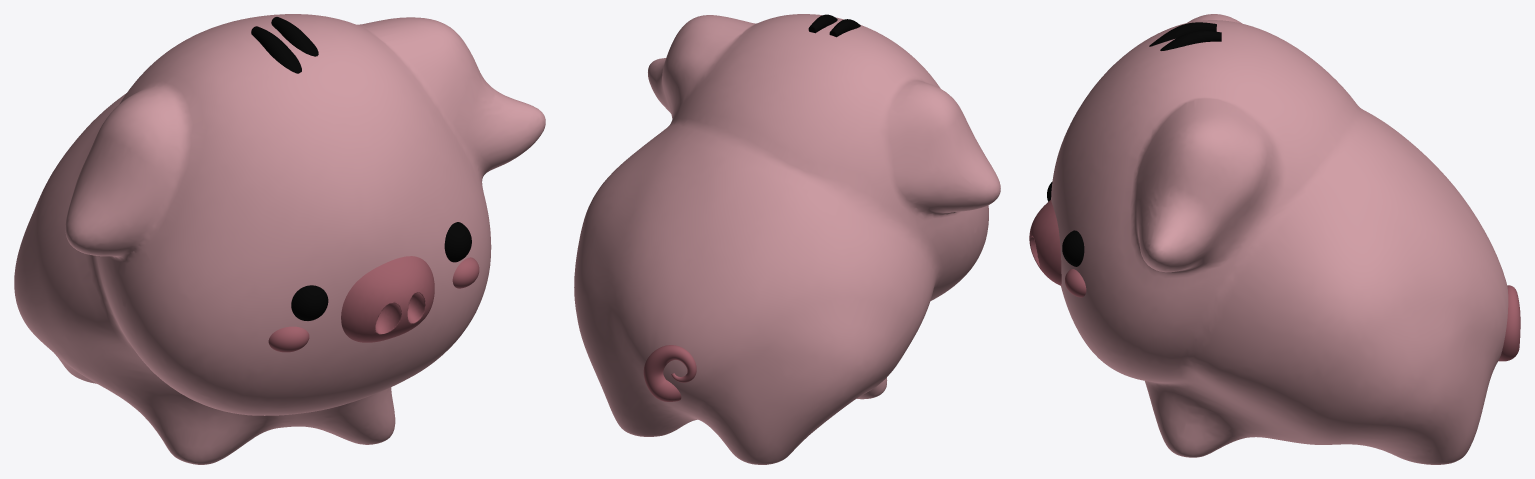
Rendered from piggyGLB.glb.
The picture shows the model from 3 angles, left to right: view 1: azimuth 30°, elevation 25°; view 2: azimuth 150°, elevation 25°; view 3: azimuth 270°, elevation 25°; orthographic projection. The views are drawn at different scales.
Parts seen in each view (by area): view 1: Sphere, Tube; view 2: Sphere, Tube; view 3: Sphere, Tube.
Part boxes in pixels (box(x1,y1,x2,y2)): Sphere: box(14, 14, 545, 464); Tube: box(251, 17, 318, 73); Sphere: box(574, 14, 1000, 464); Tube: box(643, 14, 860, 401); Sphere: box(1029, 14, 1508, 464); Tube: box(1149, 22, 1520, 361).
Size of the model in its own units: 1.22 by 1.1 by 1.27.
